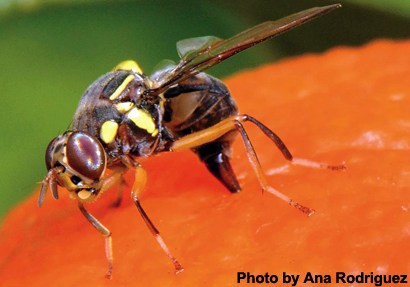Fruit fly: (31, 37, 262, 223)
